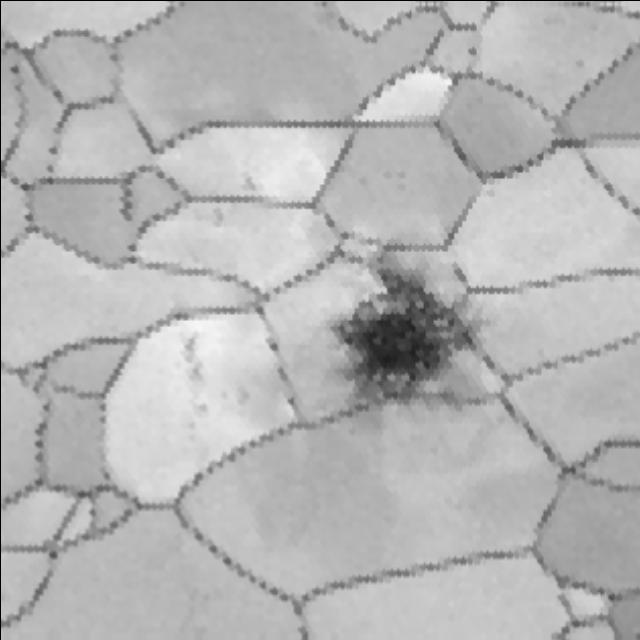good_void: (315, 245, 494, 433), (169, 329, 280, 439), (239, 174, 261, 193), (211, 207, 227, 232)
